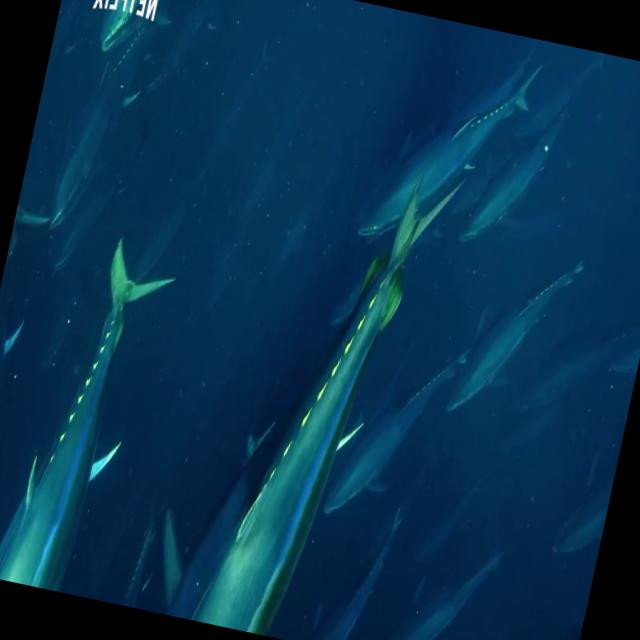fish: (164, 139, 453, 640), (0, 244, 174, 601), (351, 32, 544, 266), (320, 316, 468, 534), (439, 228, 591, 436), (461, 92, 577, 254)
